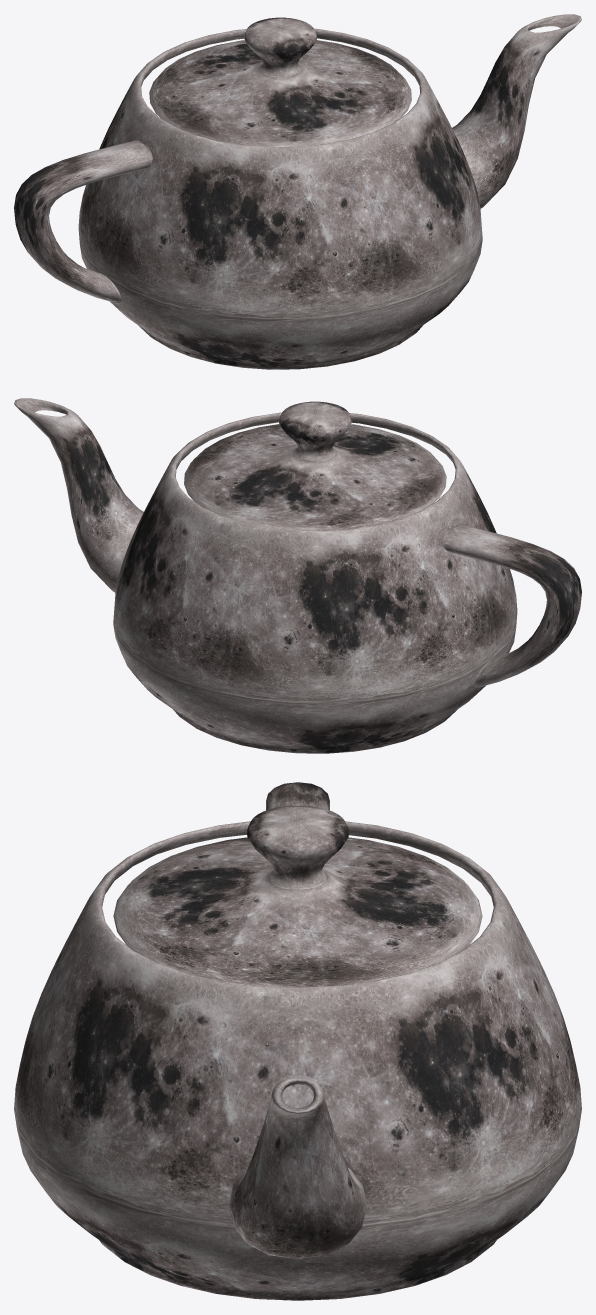
File: teapot.gltf
3 renders of one model, top to bottom at view 1: azimuth 30°, elevation 25°; view 2: azimuth 150°, elevation 25°; view 3: azimuth 270°, elevation 25°, orthographic. The views are drawn at different scales.
Parts seen in each view (by area): view 1: Teapot001; view 2: Teapot001; view 3: Teapot001.
Boxes of the visible parts, box(x1,y1,x2,y2) form: Teapot001: box(14, 14, 581, 369); Teapot001: box(14, 398, 581, 753); Teapot001: box(14, 782, 581, 1300).
Size of the model in its own units: 0.0586 by 0.0287 by 0.0364.
Materials: 1 (1 with a texture image).
